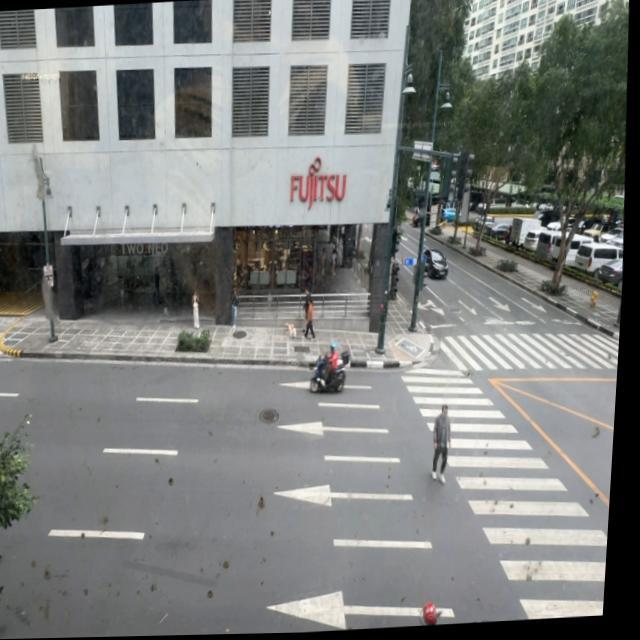jaywalking: (427, 402, 454, 483)
